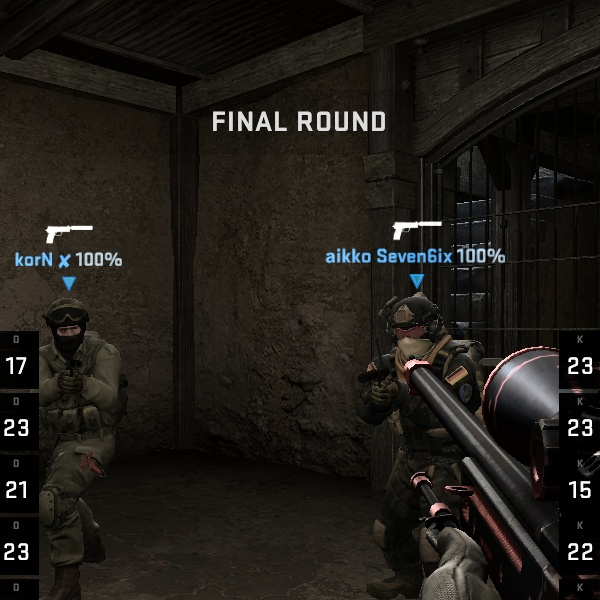ct_body: (331, 285, 506, 598), (5, 287, 145, 600)
ct_head: (373, 284, 470, 374), (37, 294, 98, 356)
